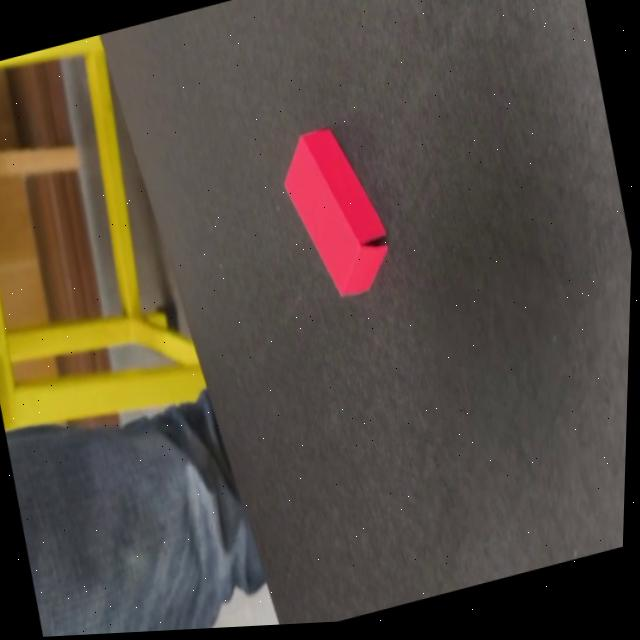red block: (268, 115, 400, 313)
